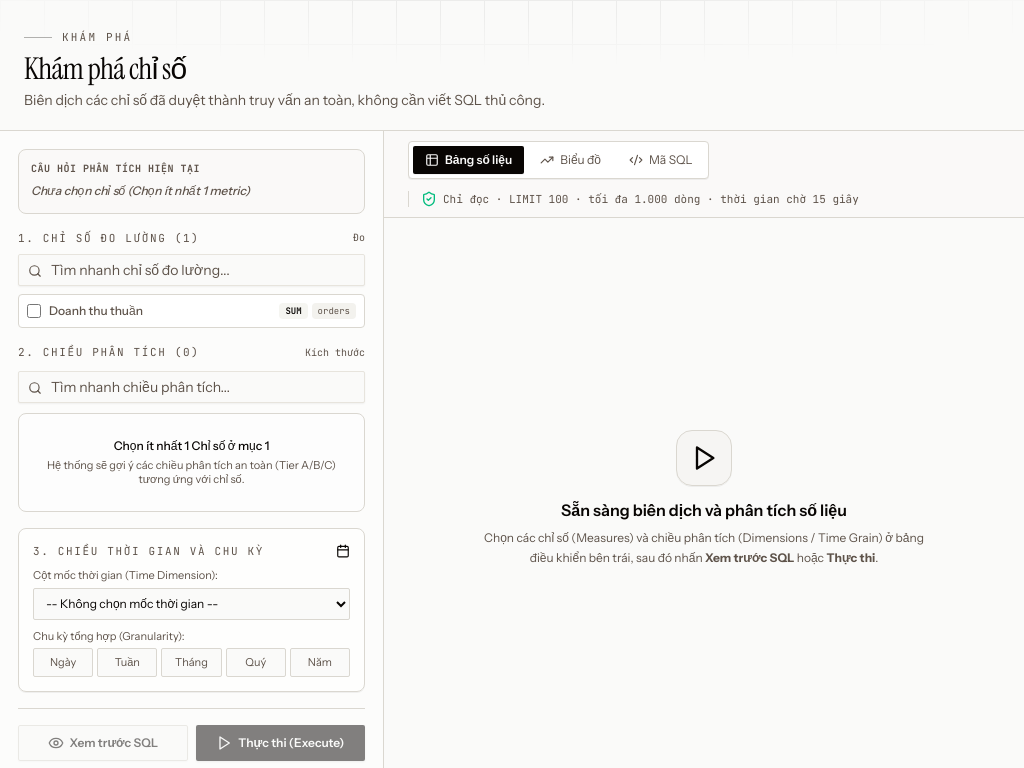
Test case: MetricExplorerView › allows clicking dimension pill to toggle selection
// Select metric first
Step 1. Click the checkbox labelled "Doanh thu thuần SUM orders" → (34, 311), box x1=27 y1=304 x2=41 y2=318
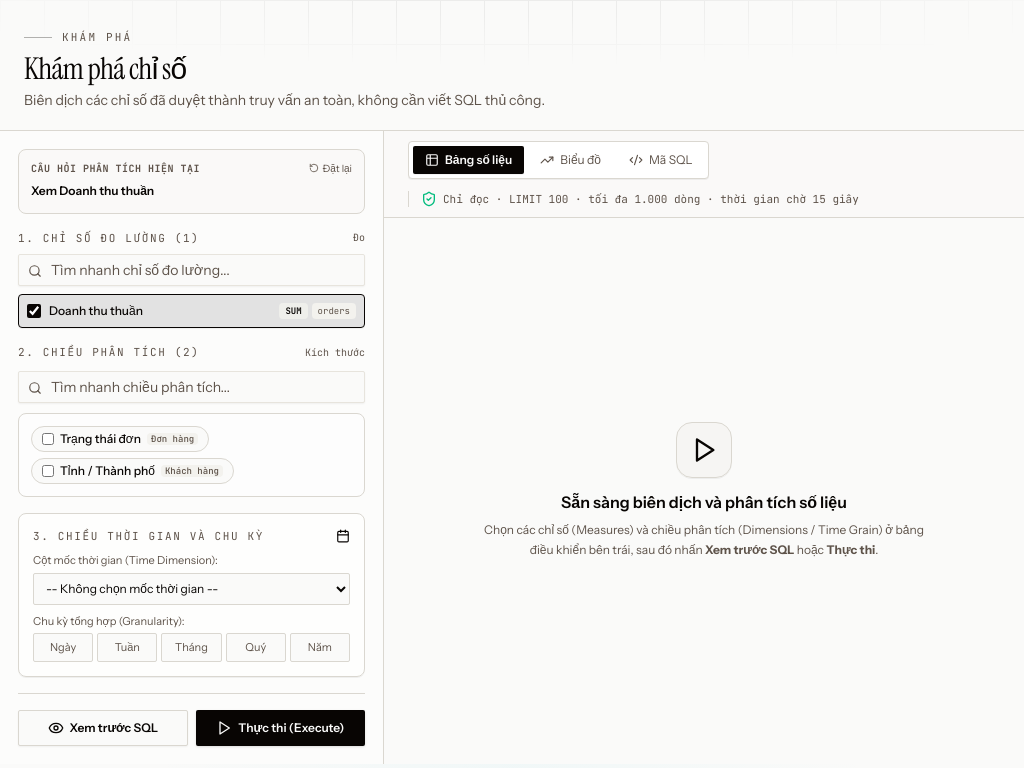
Expected: the text "Trạng thái đơn" is shown, x1=60 y1=431 x2=141 y2=447
// Click the dimension pill button
Step 2. Click the button "Trạng thái đơn Đơn hàng" → (120, 439), box x1=31 y1=426 x2=209 y2=452
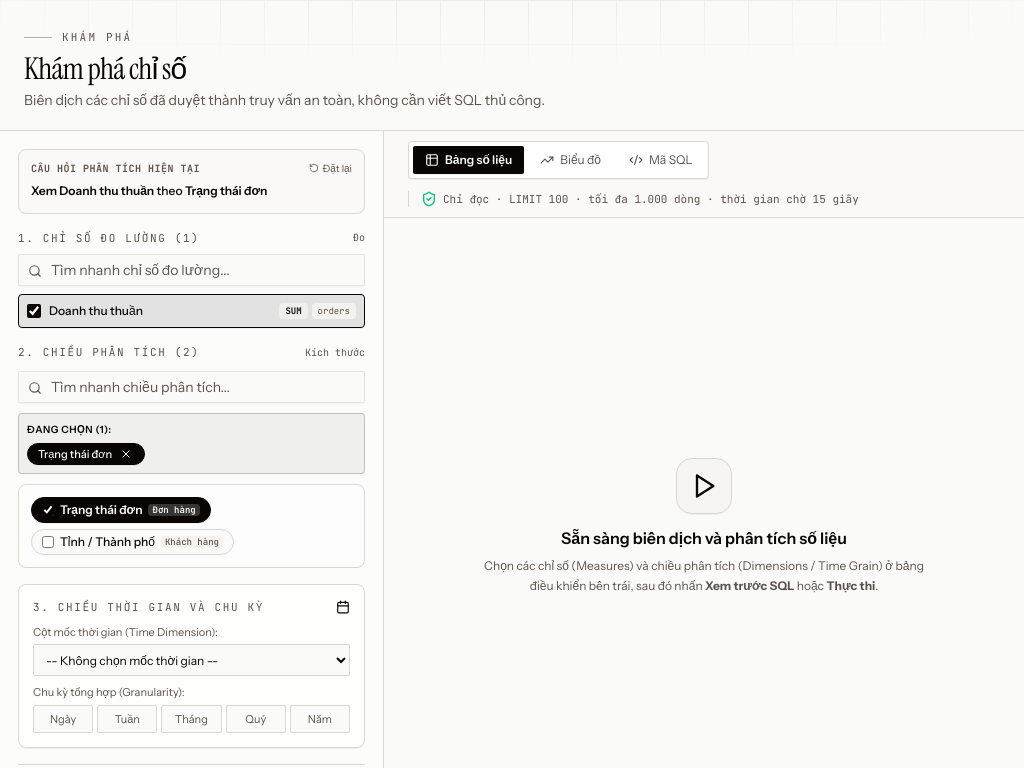
Expected: the text "Đang chọn (1):" is shown, x1=27 y1=423 x2=111 y2=436
